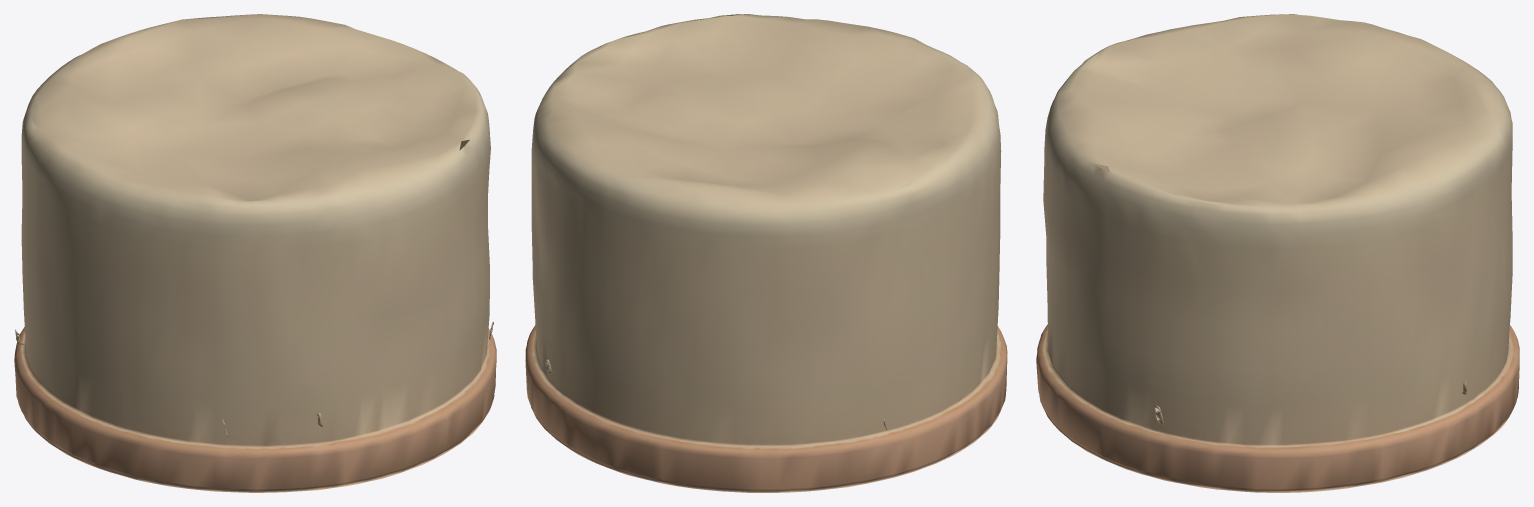
The model's file is cake-v2.glb.
3 views of the same model, side by side, from view 1: azimuth 30°, elevation 25°; view 2: azimuth 150°, elevation 25°; view 3: azimuth 270°, elevation 25° (orthographic).
Parts seen in each view (by area): view 1: KIMI_Normalized_cake-v2; view 2: KIMI_Normalized_cake-v2; view 3: KIMI_Normalized_cake-v2.
Boxes of the visible parts, x1,y1,x2,y2 form: KIMI_Normalized_cake-v2: (14,14,496,492); KIMI_Normalized_cake-v2: (525,14,1007,492); KIMI_Normalized_cake-v2: (1036,14,1519,492).
Bounding box in the file's own units: 0.6 × 0.4 × 0.6.
Materials: 1 (1 with a texture image).
